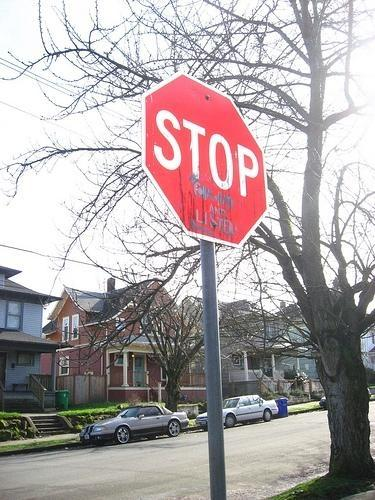car: (78, 403, 189, 444), (194, 394, 281, 431), (320, 387, 372, 411)
